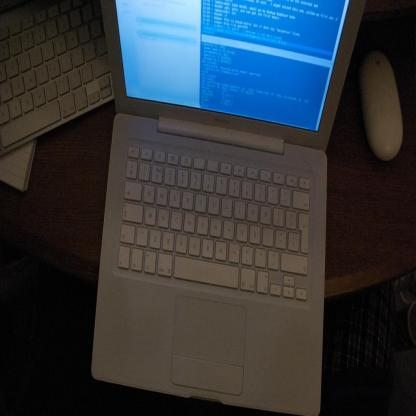board: (90, 0, 364, 416)
